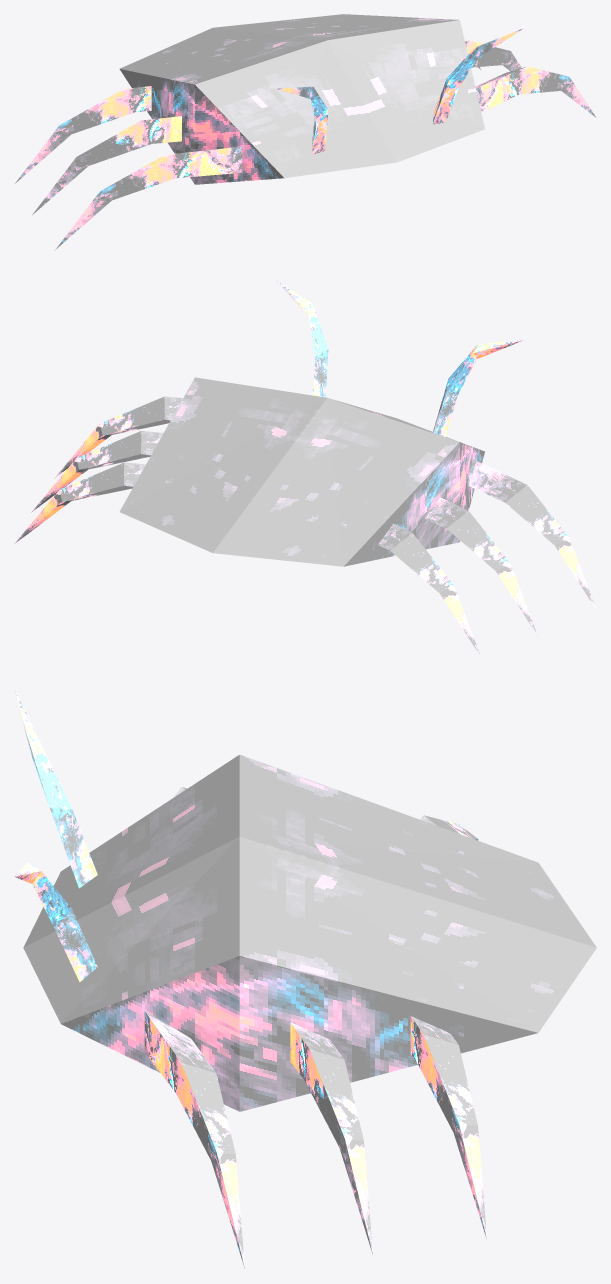
Rendered from Roach.glb.
The picture shows the model from 3 angles, top to bottom: view 1: azimuth 30°, elevation 25°; view 2: azimuth 150°, elevation 25°; view 3: azimuth 270°, elevation 25°; orthographic projection. The views are drawn at different scales.
Parts seen in each view (by area): view 1: Roach; view 2: Roach; view 3: Roach.
Boxes of the visible parts, x1,y1,x2,y2 form: Roach: (15,14,596,250); Roach: (14,280,596,657); Roach: (14,689,596,1268).
Size of the model in its own units: 3.34 by 1.06 by 2.
